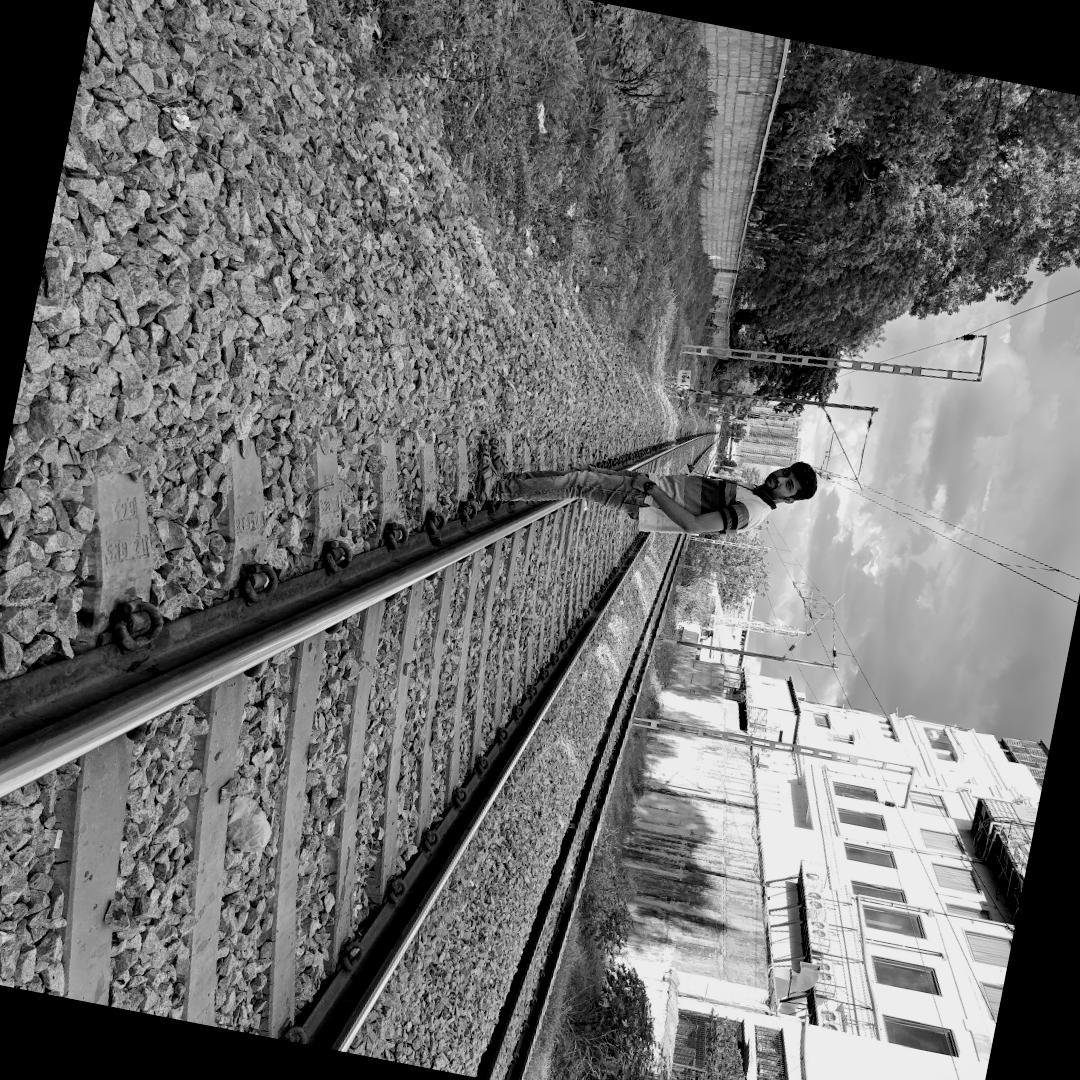standing: (464, 428, 823, 545)
